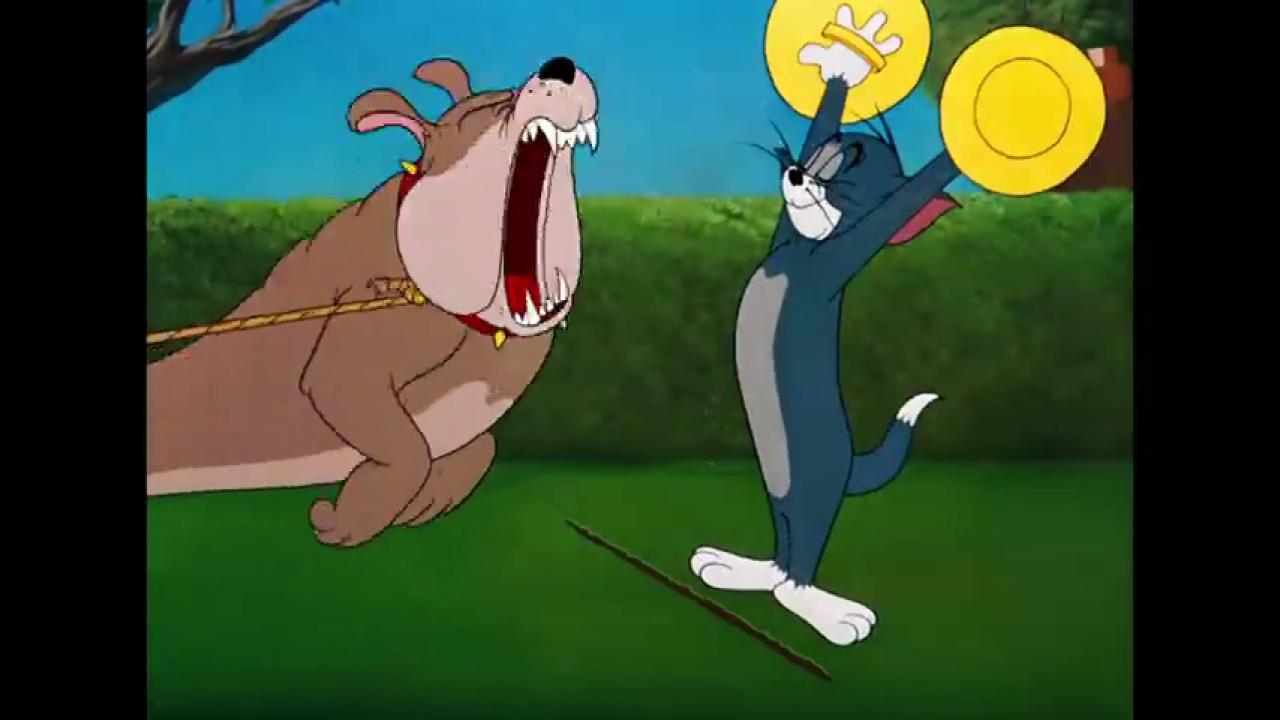Tom: (688, 3, 961, 650)
